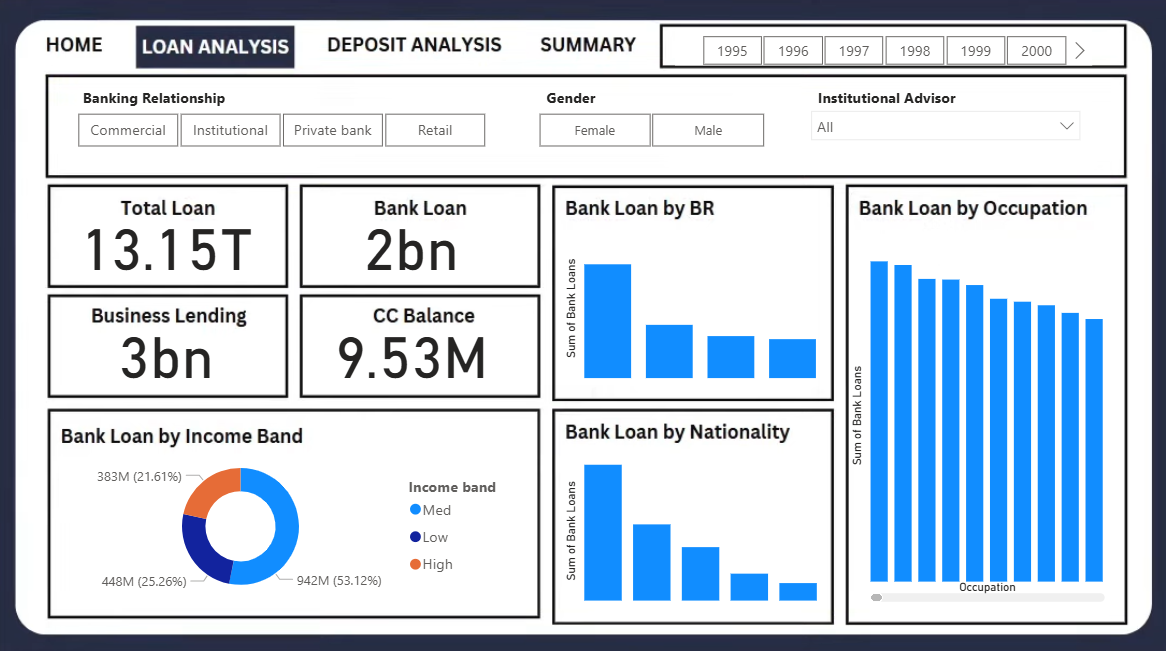

The page's visual inventory and layout, read from the dashboard file:
{"tool":"powerbi","page":{"name":"loan analysis","canvas":[1280,720],"ordinal":1},"visuals":[{"type":"card","fields":{"Values":["Sum(Banking (1).Total Loan)"]},"box":[160,247.8,184.4,64.4],"z":0},{"type":"card","fields":{"Values":["Sum(Banking (1).Business Lending)"]},"box":[160,348.9,184.4,64.4],"z":1000},{"type":"card","fields":{"Values":["Sum(Banking (1).Credit Card Balance)"]},"box":[388.9,348.9,184.4,64.4],"z":2000},{"type":"card","fields":{"Values":["Sum(Banking (1).Bank Loans)"]},"box":[388.9,247.8,184.4,64.4],"z":3000},{"type":"donutChart","fields":{"Category":["Banking (1).Custom"],"Y":["Sum(Banking (1).Bank Loans)"]},"box":[160,470,422.2,150],"z":4000},{"type":"columnChart","fields":{"Category":["Banking (1).BRId"],"Y":["Sum(Banking (1).Bank Loans)"]},"box":[618.9,263.3,245.6,150],"z":5000},{"type":"columnChart","fields":{"Y":["Sum(Banking (1).Bank Loans)"],"Category":["Banking (1).Nationality"]},"box":[618.9,470,245.6,150],"z":6000},{"type":"columnChart","fields":{"Y":["Sum(Banking (1).Bank Loans)"],"Category":["Banking (1).Occupation"]},"box":[884.4,273.3,245.6,346.7],"z":7000},{"type":"slicer","fields":{"Values":["Banking (1).BRId"]},"box":[144.4,153.3,428.9,44.4],"z":8000},{"type":"slicer","fields":{"Values":["Banking (1).IAId"]},"box":[842.2,147.8,271.1,55.6],"z":9000},{"type":"slicer","fields":{"Values":["Banking (1).GenderId"]},"box":[573.3,153.3,258.9,44.4],"z":10000},{"type":"textbox","box":[170,131.1,163.3,32.2],"z":11000},{"type":"textbox","box":[853.3,131.1,163.3,32.2],"z":12000},{"type":"textbox","box":[601.1,131.1,163.3,32.2],"z":13000},{"type":"slicer","fields":{"Values":["Banking (1).Joined Bank.Variation.Date Hierarchy.Year"]},"box":[725.6,81.1,387.8,34.4],"z":14000},{"type":"actionButton","box":[119.8,76.7,100,39.5],"z":14001},{"type":"actionButton","box":[380,78.8,202.5,40],"z":14002}]}

Visuals, with their boxes in screenshot pixels (x1, y1, x2, y2), scaled from the page's 1280x720 canvas onto the 1166x651 screenshot:
card - Sum(Banking (1).Total Loan): select_region(146, 224, 314, 282)
card - Sum(Banking (1).Business Lending): select_region(146, 315, 314, 374)
card - Sum(Banking (1).Credit Card Balance): select_region(354, 315, 522, 374)
card - Sum(Banking (1).Bank Loans): select_region(354, 224, 522, 282)
donutChart - Banking (1).Custom x Sum(Banking (1).Bank Loans): select_region(146, 425, 530, 561)
columnChart - Banking (1).BRId x Sum(Banking (1).Bank Loans): select_region(564, 238, 788, 374)
columnChart - Sum(Banking (1).Bank Loans) x Banking (1).Nationality: select_region(564, 425, 788, 561)
columnChart - Sum(Banking (1).Bank Loans) x Banking (1).Occupation: select_region(806, 247, 1029, 561)
slicer - Banking (1).BRId: select_region(132, 139, 522, 179)
slicer - Banking (1).IAId: select_region(767, 134, 1014, 184)
slicer - Banking (1).GenderId: select_region(522, 139, 758, 179)
textbox: select_region(155, 119, 304, 148)
textbox: select_region(777, 119, 926, 148)
textbox: select_region(548, 119, 696, 148)
slicer - Banking (1).Joined Bank.Variation.Date Hierarchy.Year: select_region(661, 73, 1014, 104)
actionButton: select_region(109, 69, 200, 105)
actionButton: select_region(346, 71, 531, 107)
